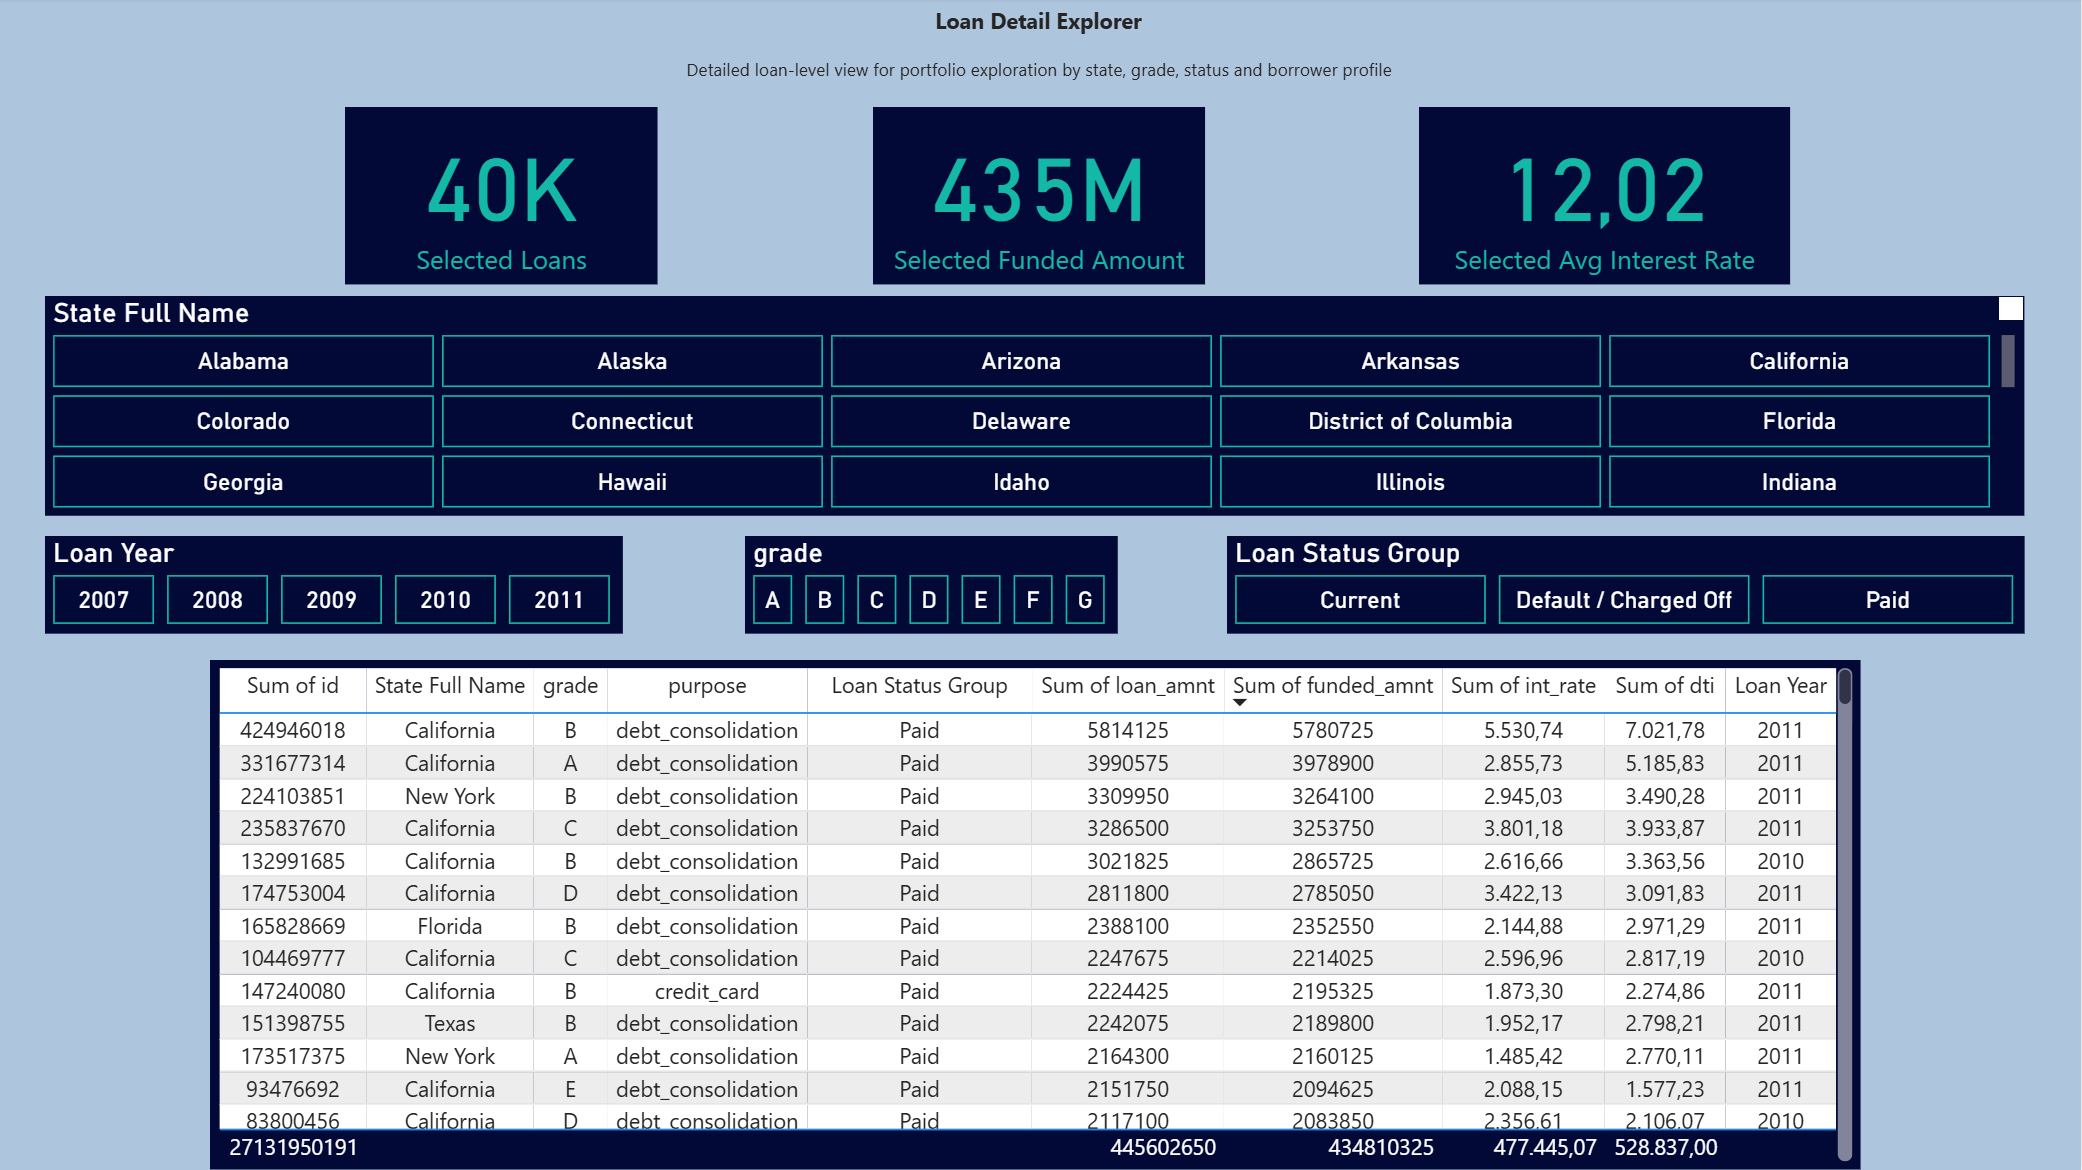

The page's visual inventory and layout, read from the dashboard file:
{"tool":"powerbi","page":{"name":"Loan Detail Explorer","canvas":[1280,720],"ordinal":4},"visuals":[{"type":"textbox","box":[549.3,0,181.2,29.1],"z":0},{"type":"textbox","box":[406.4,29.1,467,27.2],"z":1000},{"type":"card","fields":{"Values":["Loans.Selected Loans"]},"box":[214,66.8,192.4,109.5],"z":2000},{"type":"card","fields":{"Values":["Loans.Selected Funded Amount"]},"box":[538.1,66.8,204.1,109.5],"z":3000},{"type":"card","fields":{"Values":["Loans.Selected Avg Interest Rate"]},"box":[873.4,66.8,228.2,109.5],"z":4000},{"type":"tableEx","fields":{"Values":["Sum(Loans.id)","Loans.State Full Name","Loans.grade","Loans.purpose","Loans.Loan Status Group","Sum(Loans.loan_amnt)","Sum(Loans.funded_amnt)","Sum(Loans.int_rate)","Sum(Loans.dti)","Loans.Loan Year"]},"box":[130.9,406.7,1013.7,313.3],"z":5000},{"type":"advancedSlicerVisual","fields":{"Values":["Loans.State Full Name"]},"box":[29.5,183.1,1215.8,135.2],"z":6000},{"type":"advancedSlicerVisual","fields":{"Values":["Loans.grade"]},"box":[459.5,330.5,229.1,59.6],"z":7000},{"type":"advancedSlicerVisual","fields":{"Values":["Loans.Loan Status Group"]},"box":[755.6,330.5,489.6,59.6],"z":8000},{"type":"advancedSlicerVisual","fields":{"Values":["Loans.Loan Year"]},"box":[29.5,330.5,355.1,59.6],"z":9000}]}

Visuals, with their boxes in screenshot pixels (x1, y1, x2, y2), scaled from the page's 1280x720 canvas onto the 2082x1170 screenshot:
textbox: 893,0,1188,47
textbox: 661,47,1421,91
card - Loans.Selected Loans: 348,109,661,286
card - Loans.Selected Funded Amount: 875,109,1207,286
card - Loans.Selected Avg Interest Rate: 1421,109,1792,286
tableEx - Sum(Loans.id) x Loans.State Full Name: 213,661,1862,1169
advancedSlicerVisual - Loans.State Full Name: 48,298,2026,517
advancedSlicerVisual - Loans.grade: 747,537,1120,634
advancedSlicerVisual - Loans.Loan Status Group: 1229,537,2025,634
advancedSlicerVisual - Loans.Loan Year: 48,537,626,634
